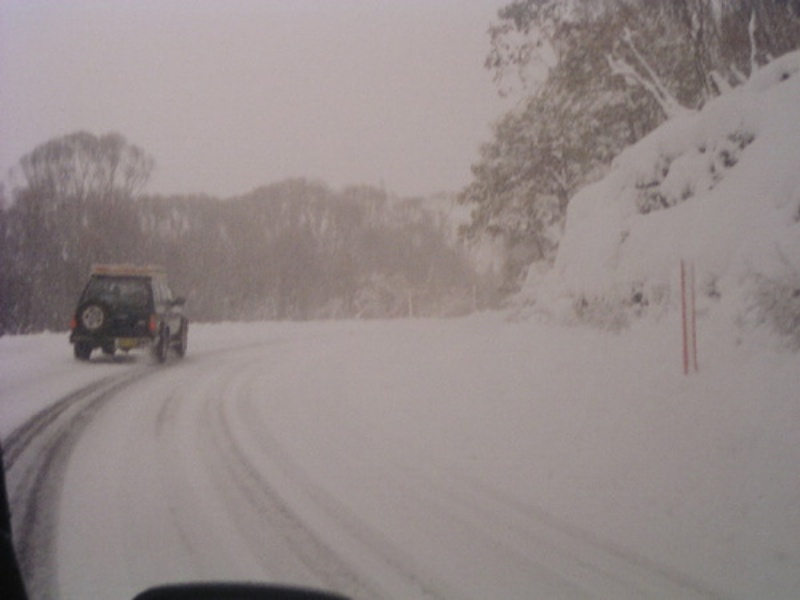car: (70, 262, 191, 361)
